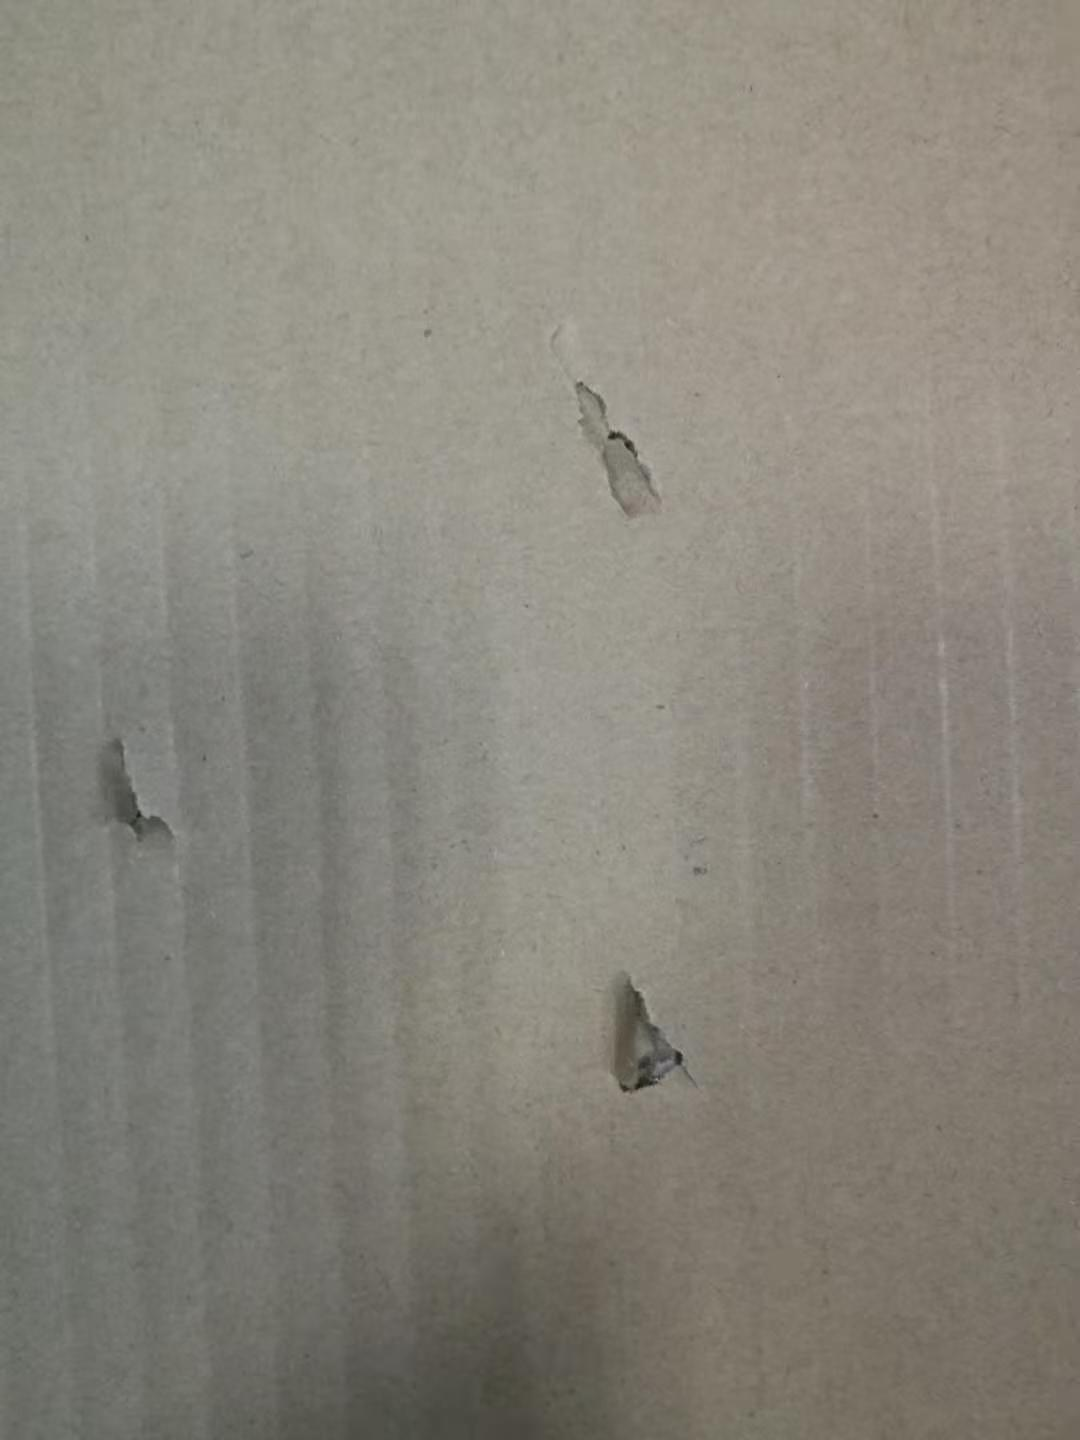defect: (509, 293, 691, 558), (574, 938, 722, 1115), (68, 702, 203, 873)
